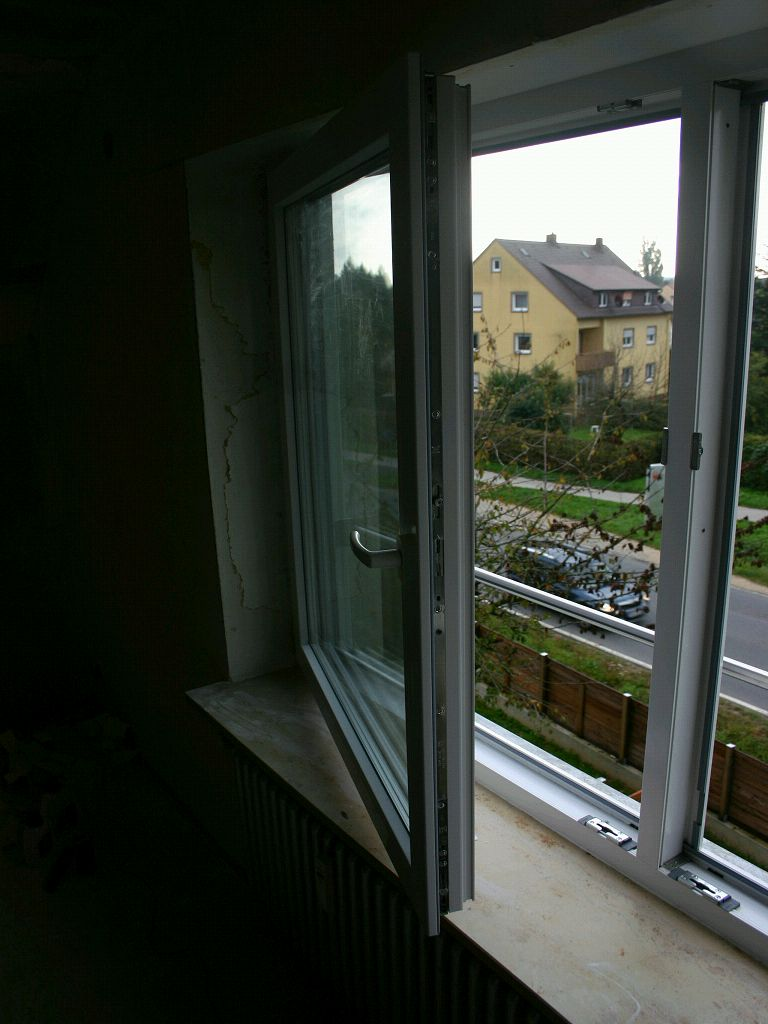windows: (243, 73, 768, 905)
